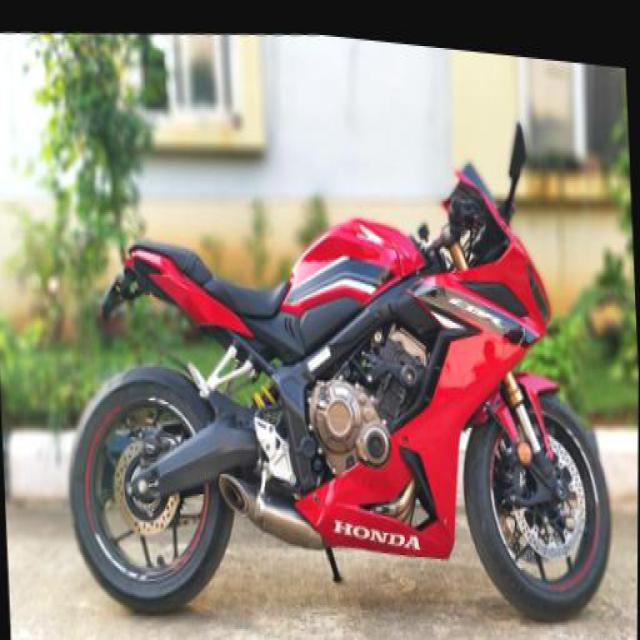CBR650R: (55, 100, 620, 638)
